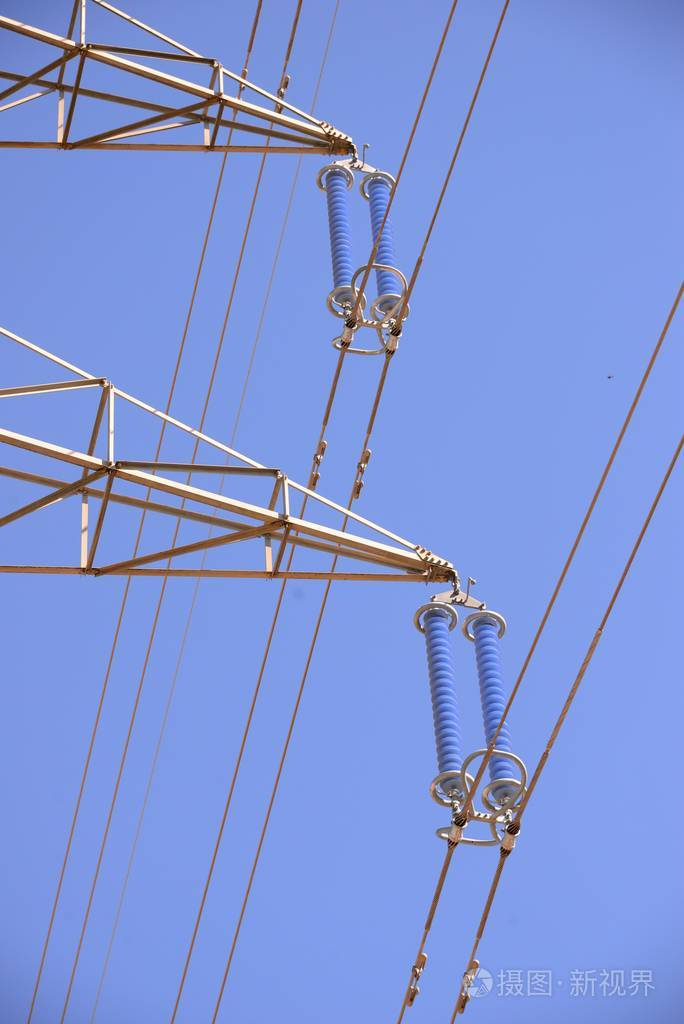insulator: (418, 613, 465, 779), (470, 623, 518, 785), (318, 170, 359, 301), (366, 172, 405, 295)
